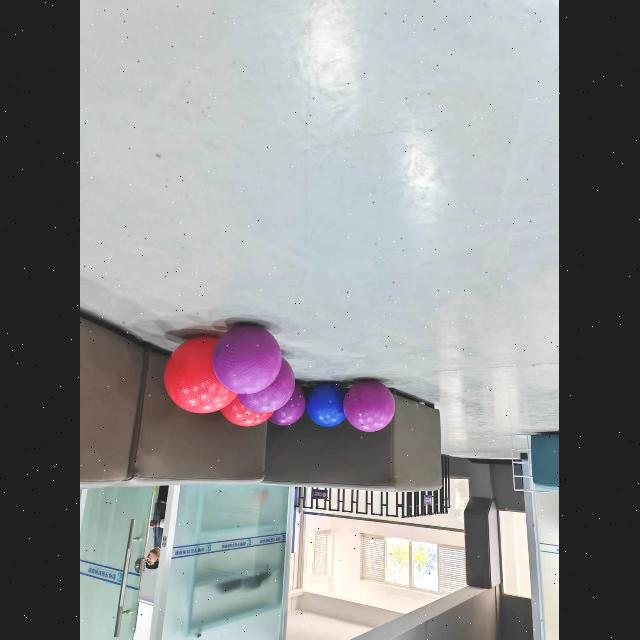B: (307, 383, 347, 427)
P: (212, 325, 282, 393), (238, 359, 296, 413), (344, 379, 396, 432), (270, 386, 306, 425)
R: (165, 337, 237, 413), (221, 398, 274, 427)
